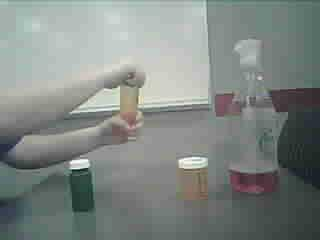Bottle A: (110, 76, 141, 140)
Bottle B: (175, 155, 214, 203)
Bottle C: (66, 155, 103, 217)
hazard: (229, 37, 288, 199)
